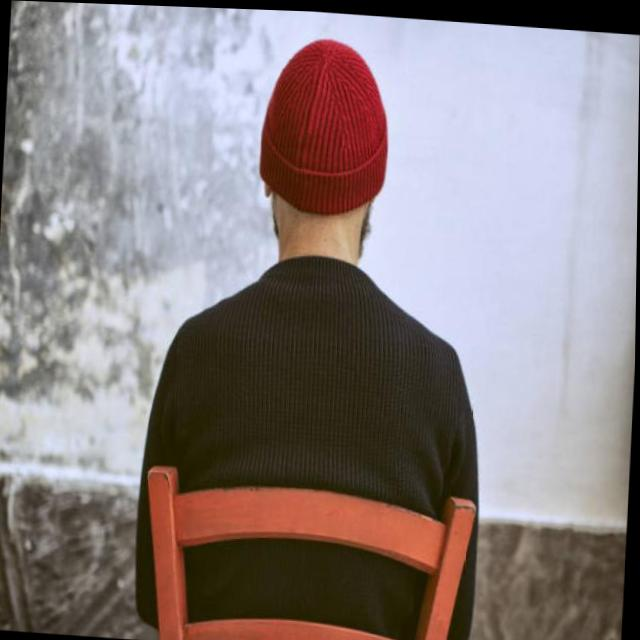no helmet: (238, 31, 415, 298)
